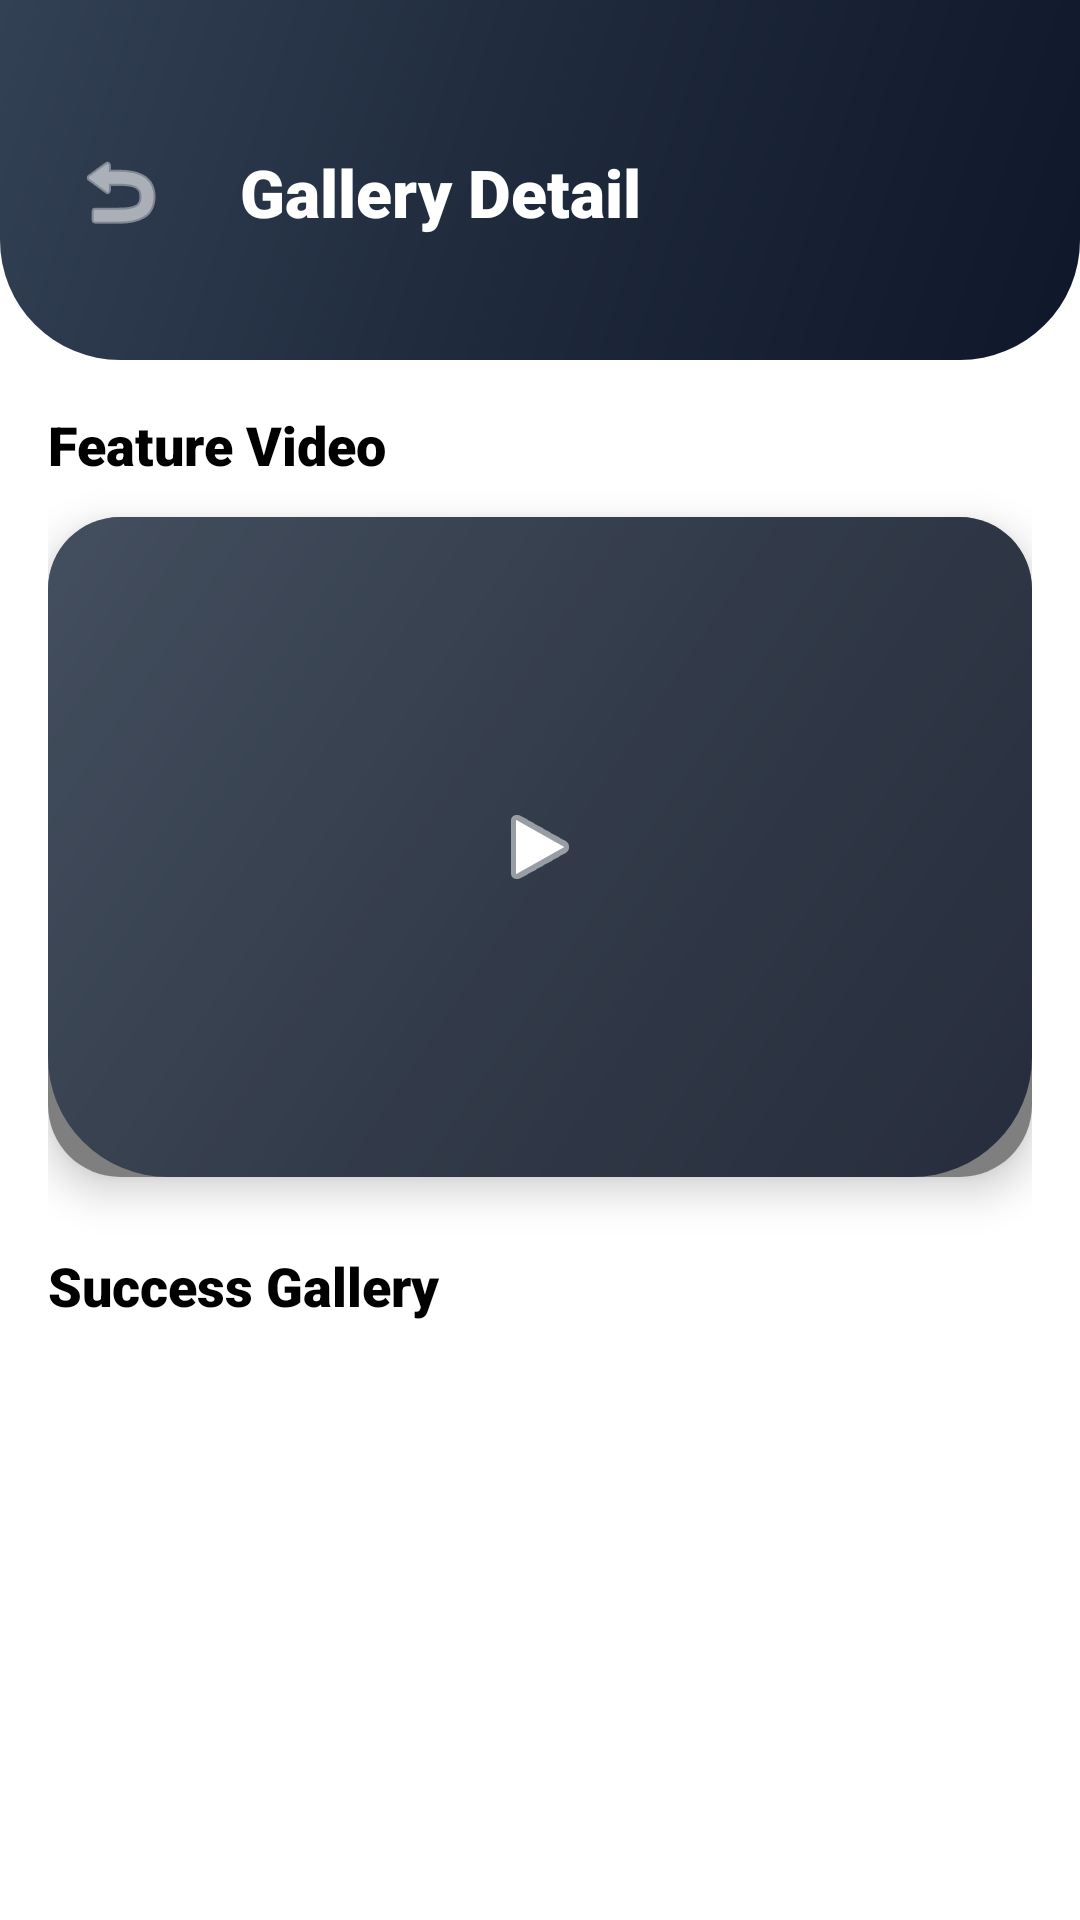

Icon bounding boxes for this 1080 × 1920 phone screenshot, format (x1, y1, x2, y2):
play: (511, 815, 569, 879)
revert: (87, 161, 156, 224)
